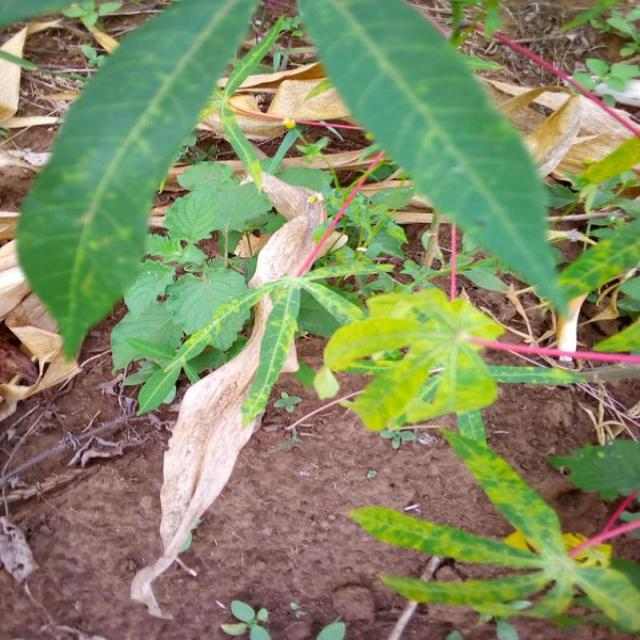cassava leaf: (294, 0, 577, 318), (15, 0, 260, 363), (322, 286, 506, 433)
